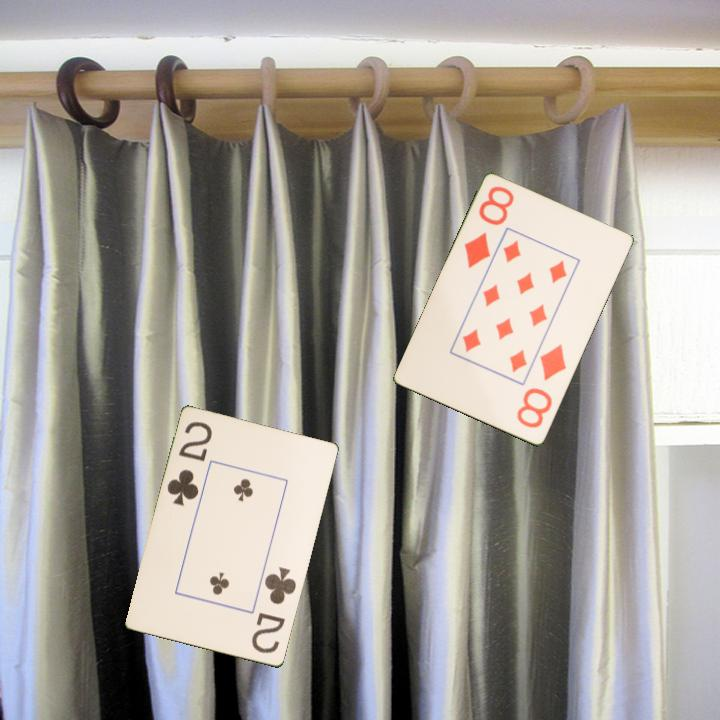2c: (248, 564, 299, 657), (164, 418, 215, 509)
8d: (513, 341, 569, 431), (461, 183, 517, 272)
